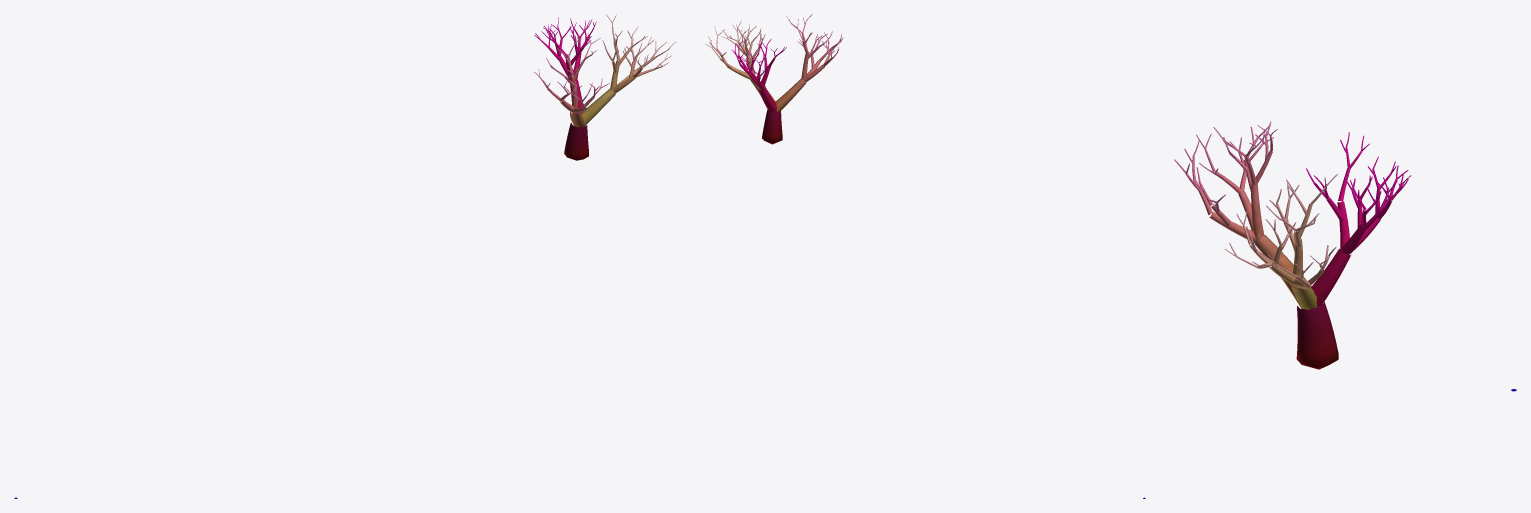
The model's file is kenya.glb.
3 renders of one model, left to right at view 1: azimuth 30°, elevation 25°; view 2: azimuth 150°, elevation 25°; view 3: azimuth 270°, elevation 25°, orthographic. The views are drawn at different scales.
Parts seen in each view (by area): view 1: Body; view 2: Body; view 3: Body.
Part boxes in pixels (bbox=[...]): Body: bbox=[534, 14, 676, 160]; Body: bbox=[705, 14, 843, 144]; Body: bbox=[1174, 121, 1411, 369].
Size of the model in its own units: 84.07 by 54.23 by 25.32.
Materials: 2 (2 with a texture image).
